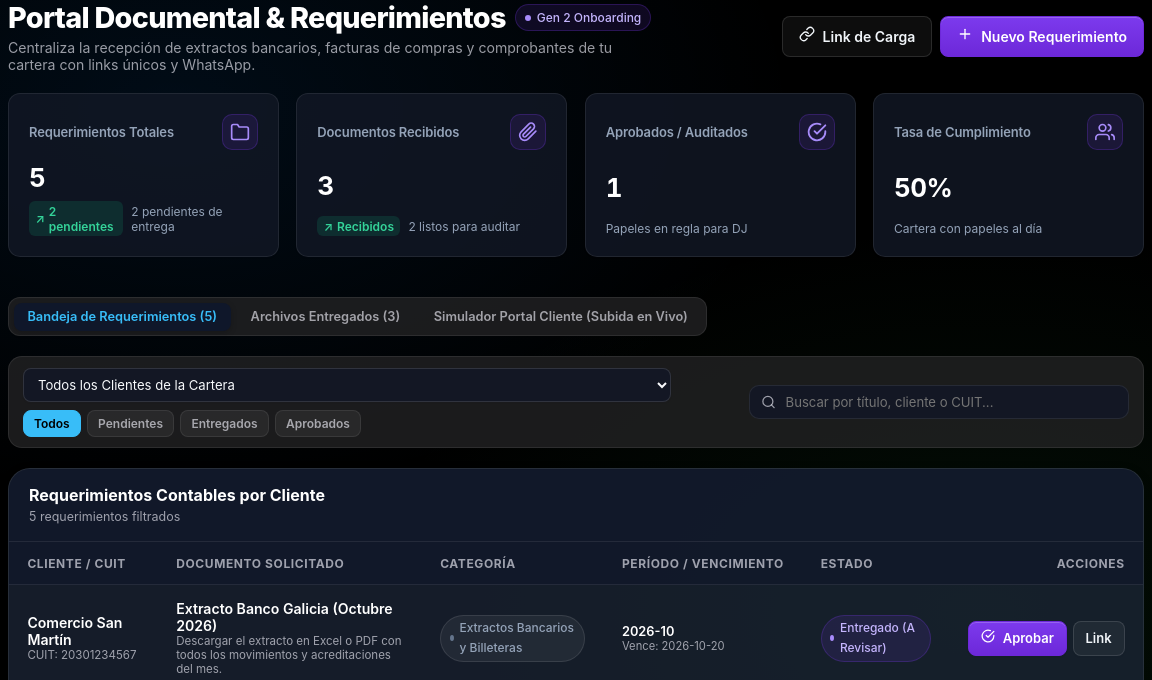
Test case: AccountantDocPortal Component › permite crear un nuevo requerimiento desde el modal
Click the button "Nuevo Requerimiento" at [1042, 36], box [940,16,1144,57]
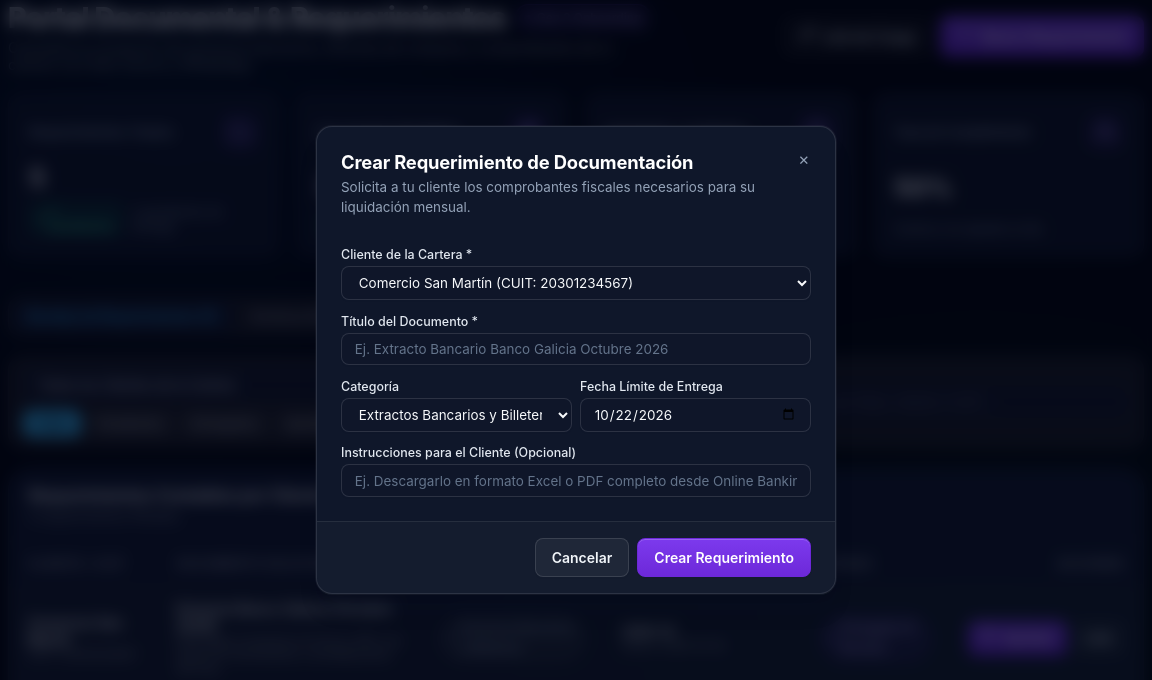
Expected: the heading "Crear Requerimiento de Documentación" is shown, [341,151,693,173]
Type "Resumen Tarjeta Galicia Visa" into the field with placeholder "Ej. Extracto Bancario Banco Galicia Octubre 2026" at [576, 349], box [341,332,811,365]
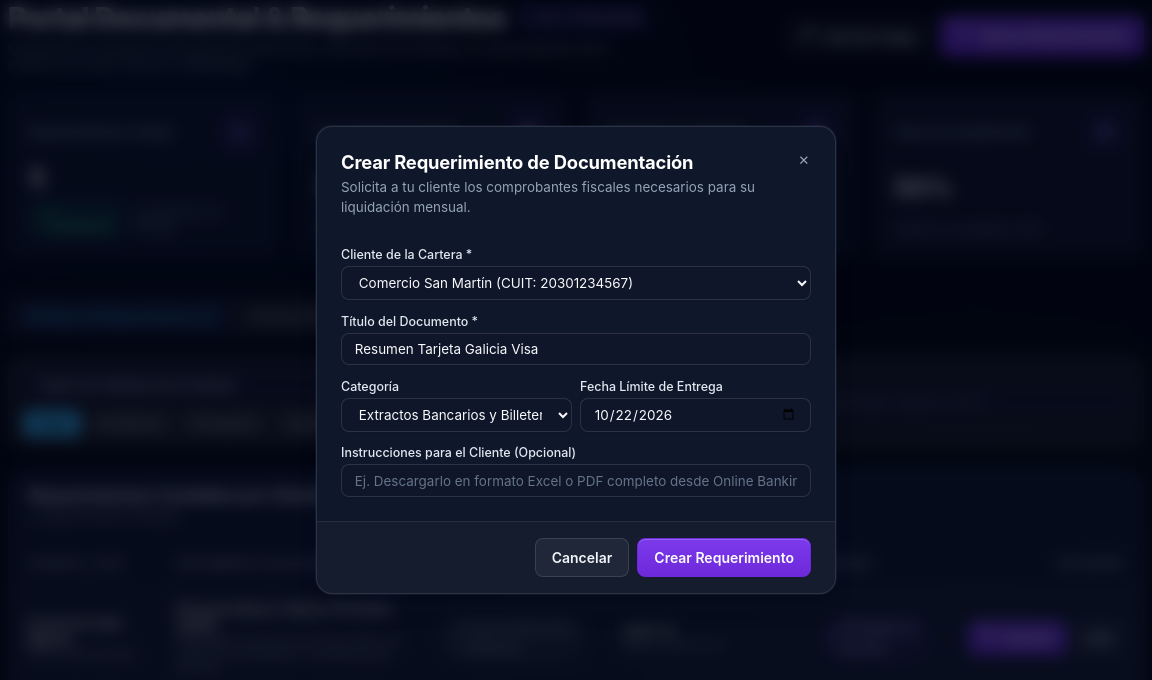
Click the button "Crear Requerimiento" at [724, 558], box [637,538,811,577]
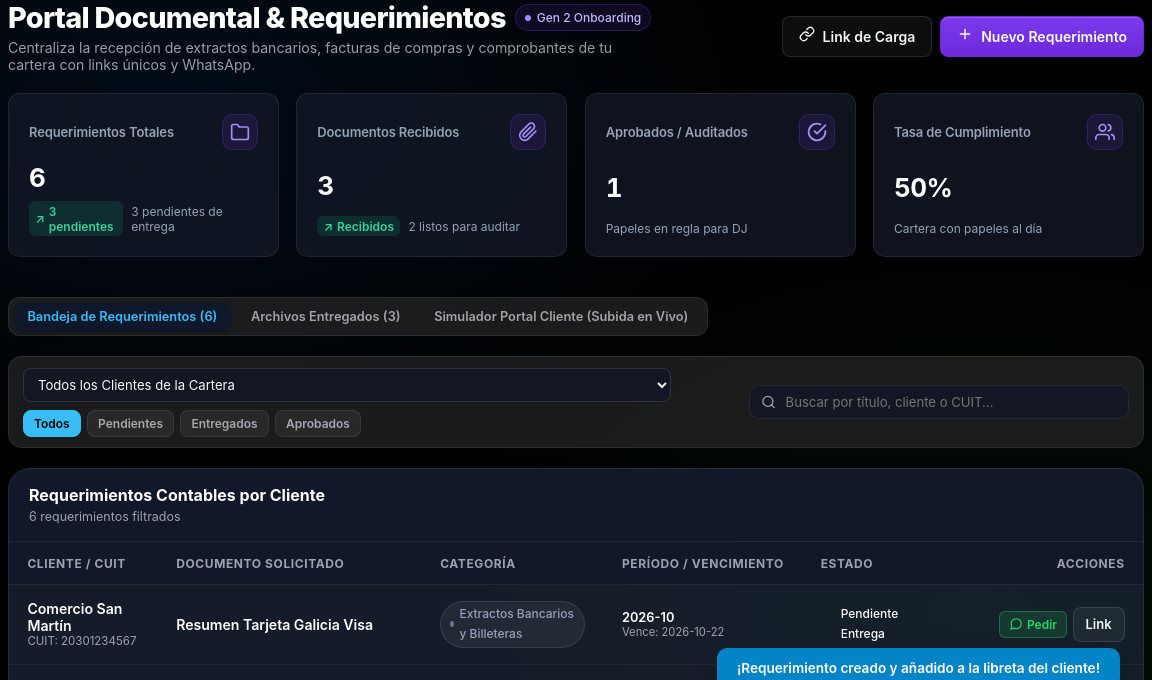
Expected: the text "Resumen Tarjeta Galicia Visa" is shown, [176,616,403,633]
